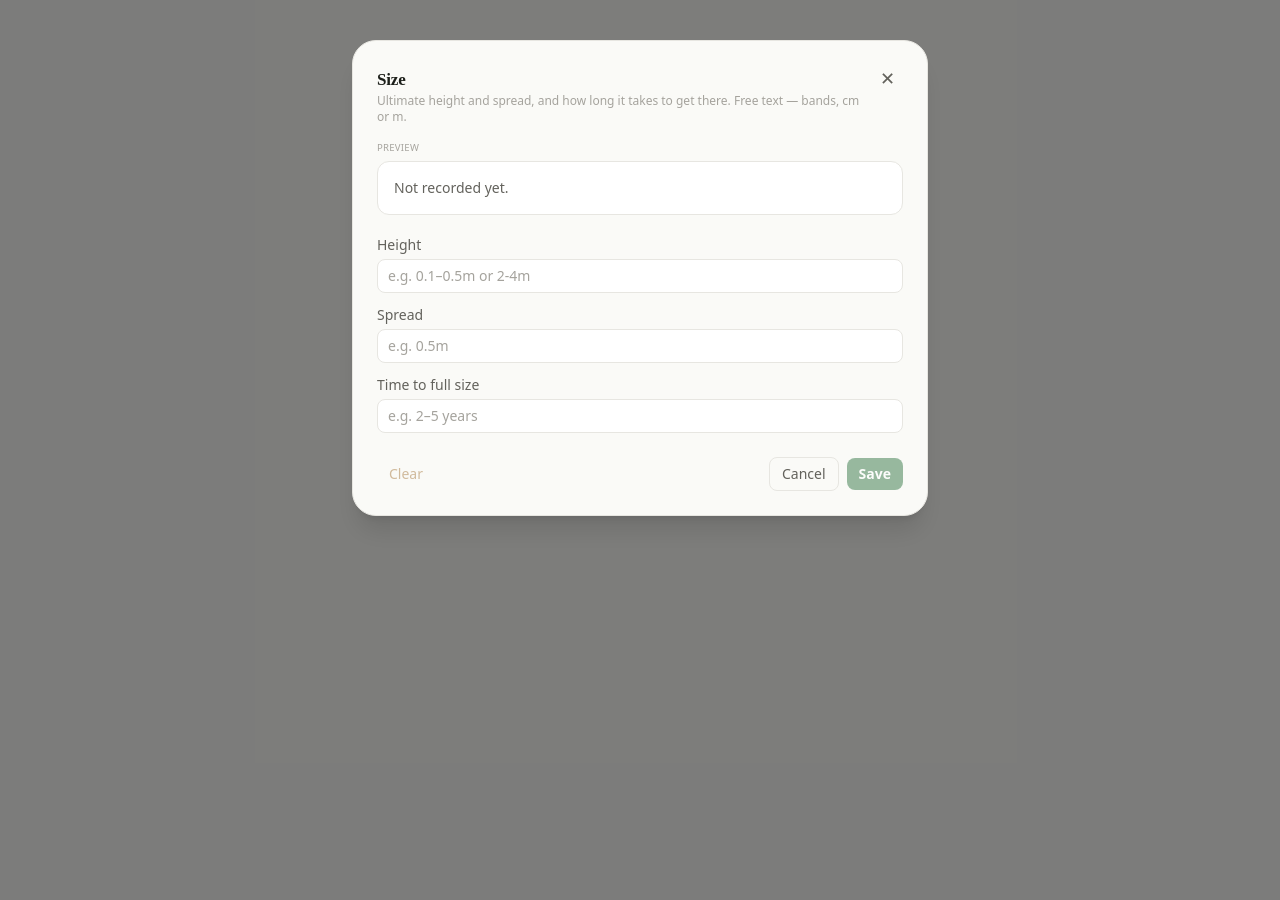
Test: SizeEditor (modal shell behaviour) › surfaces a save error and stays open
This screenshot has width=1280, height=900.
Type "2m" into the field with placeholder "e.g. 0.1–0.5m or 2-4m" at (640, 276), box [377,259,903,293]
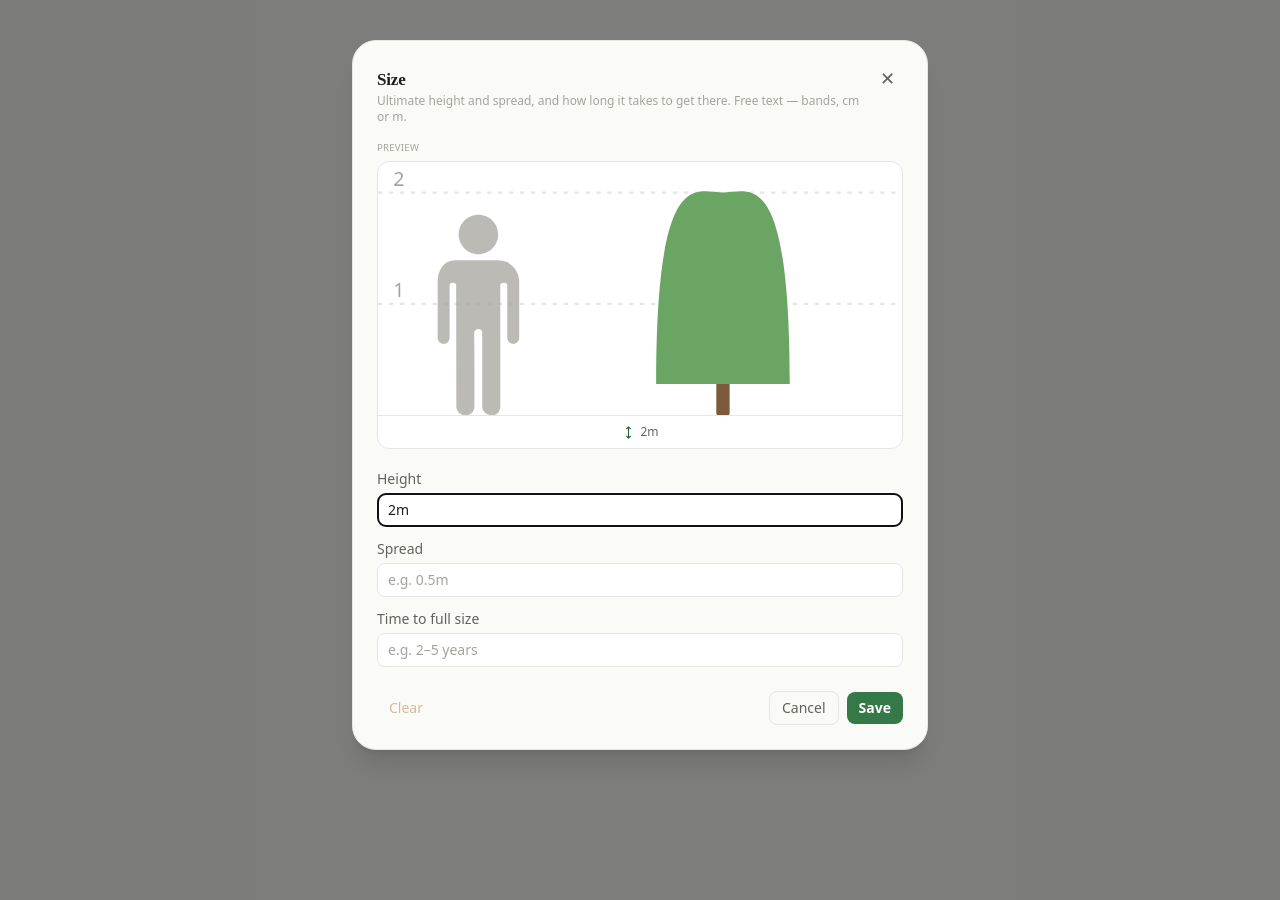
Click the button "Save" at (875, 708), box [847,692,903,724]
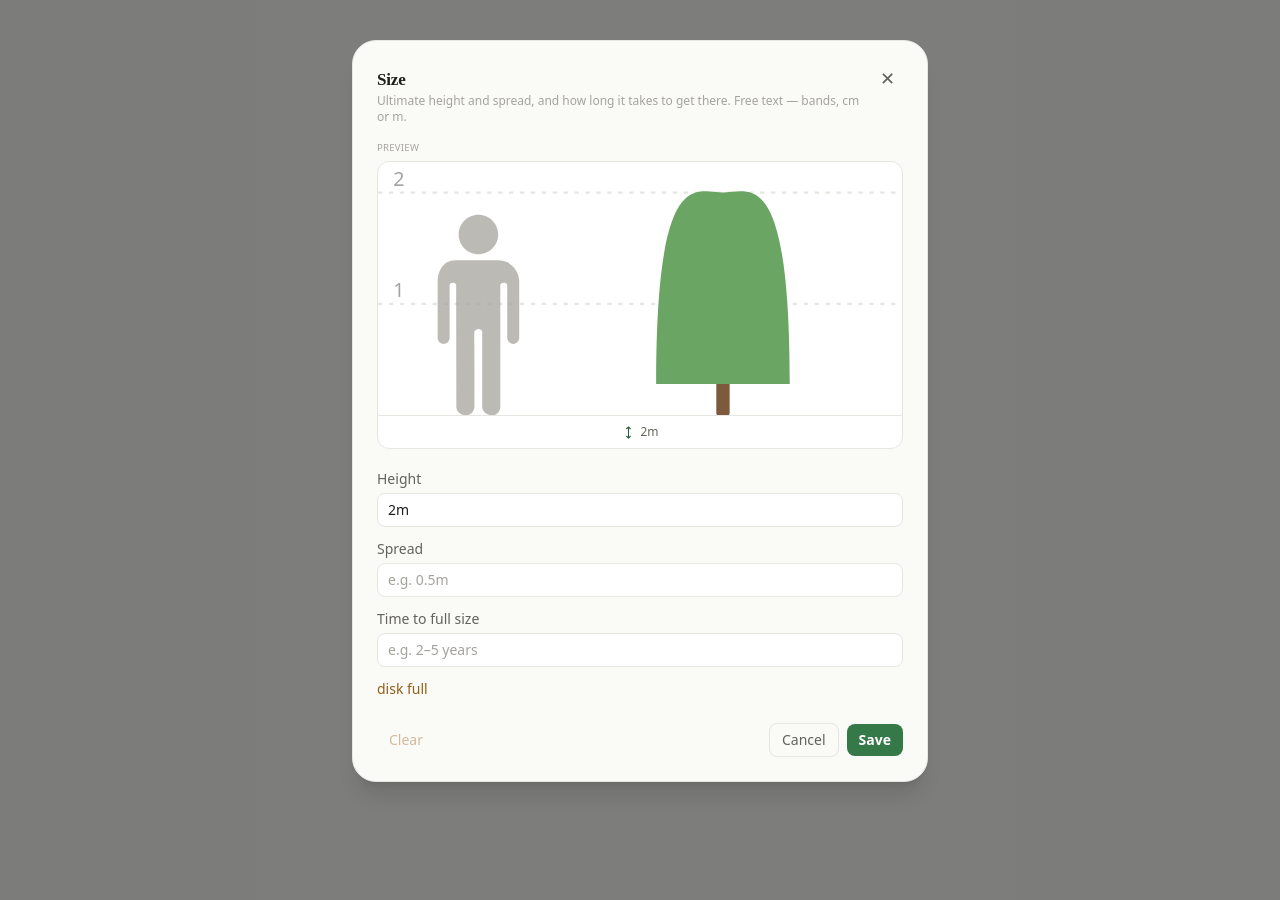
expect the text "disk full" is shown: met, box [377,679,428,698]
